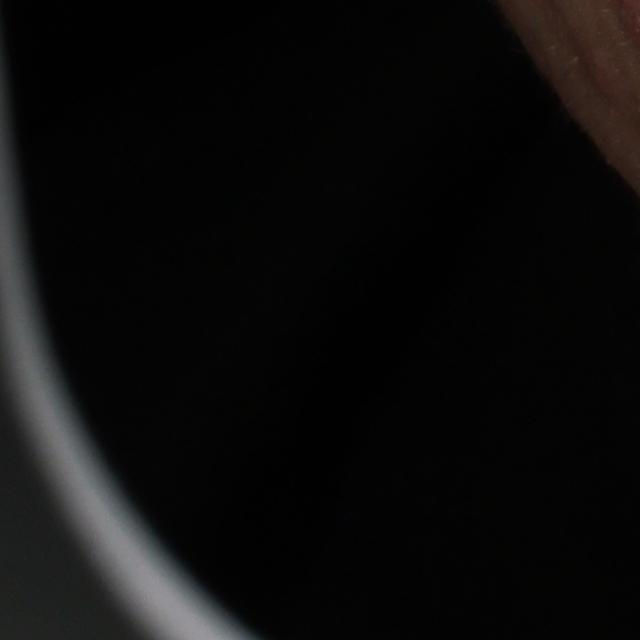papule: (575, 43, 620, 101)
